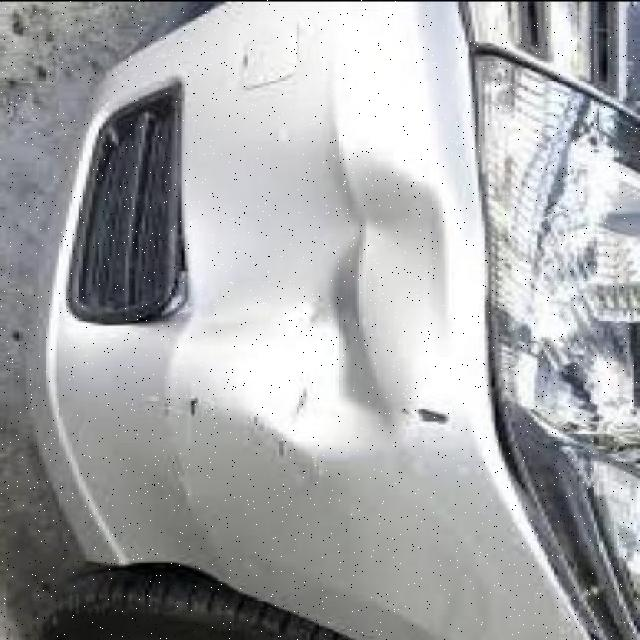damage: (153, 146, 461, 478)
